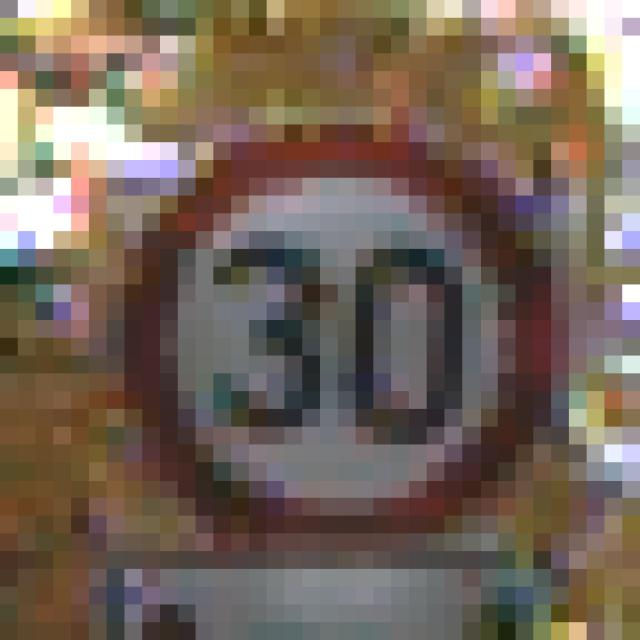Speed Limit -30-: (80, 80, 524, 542)
